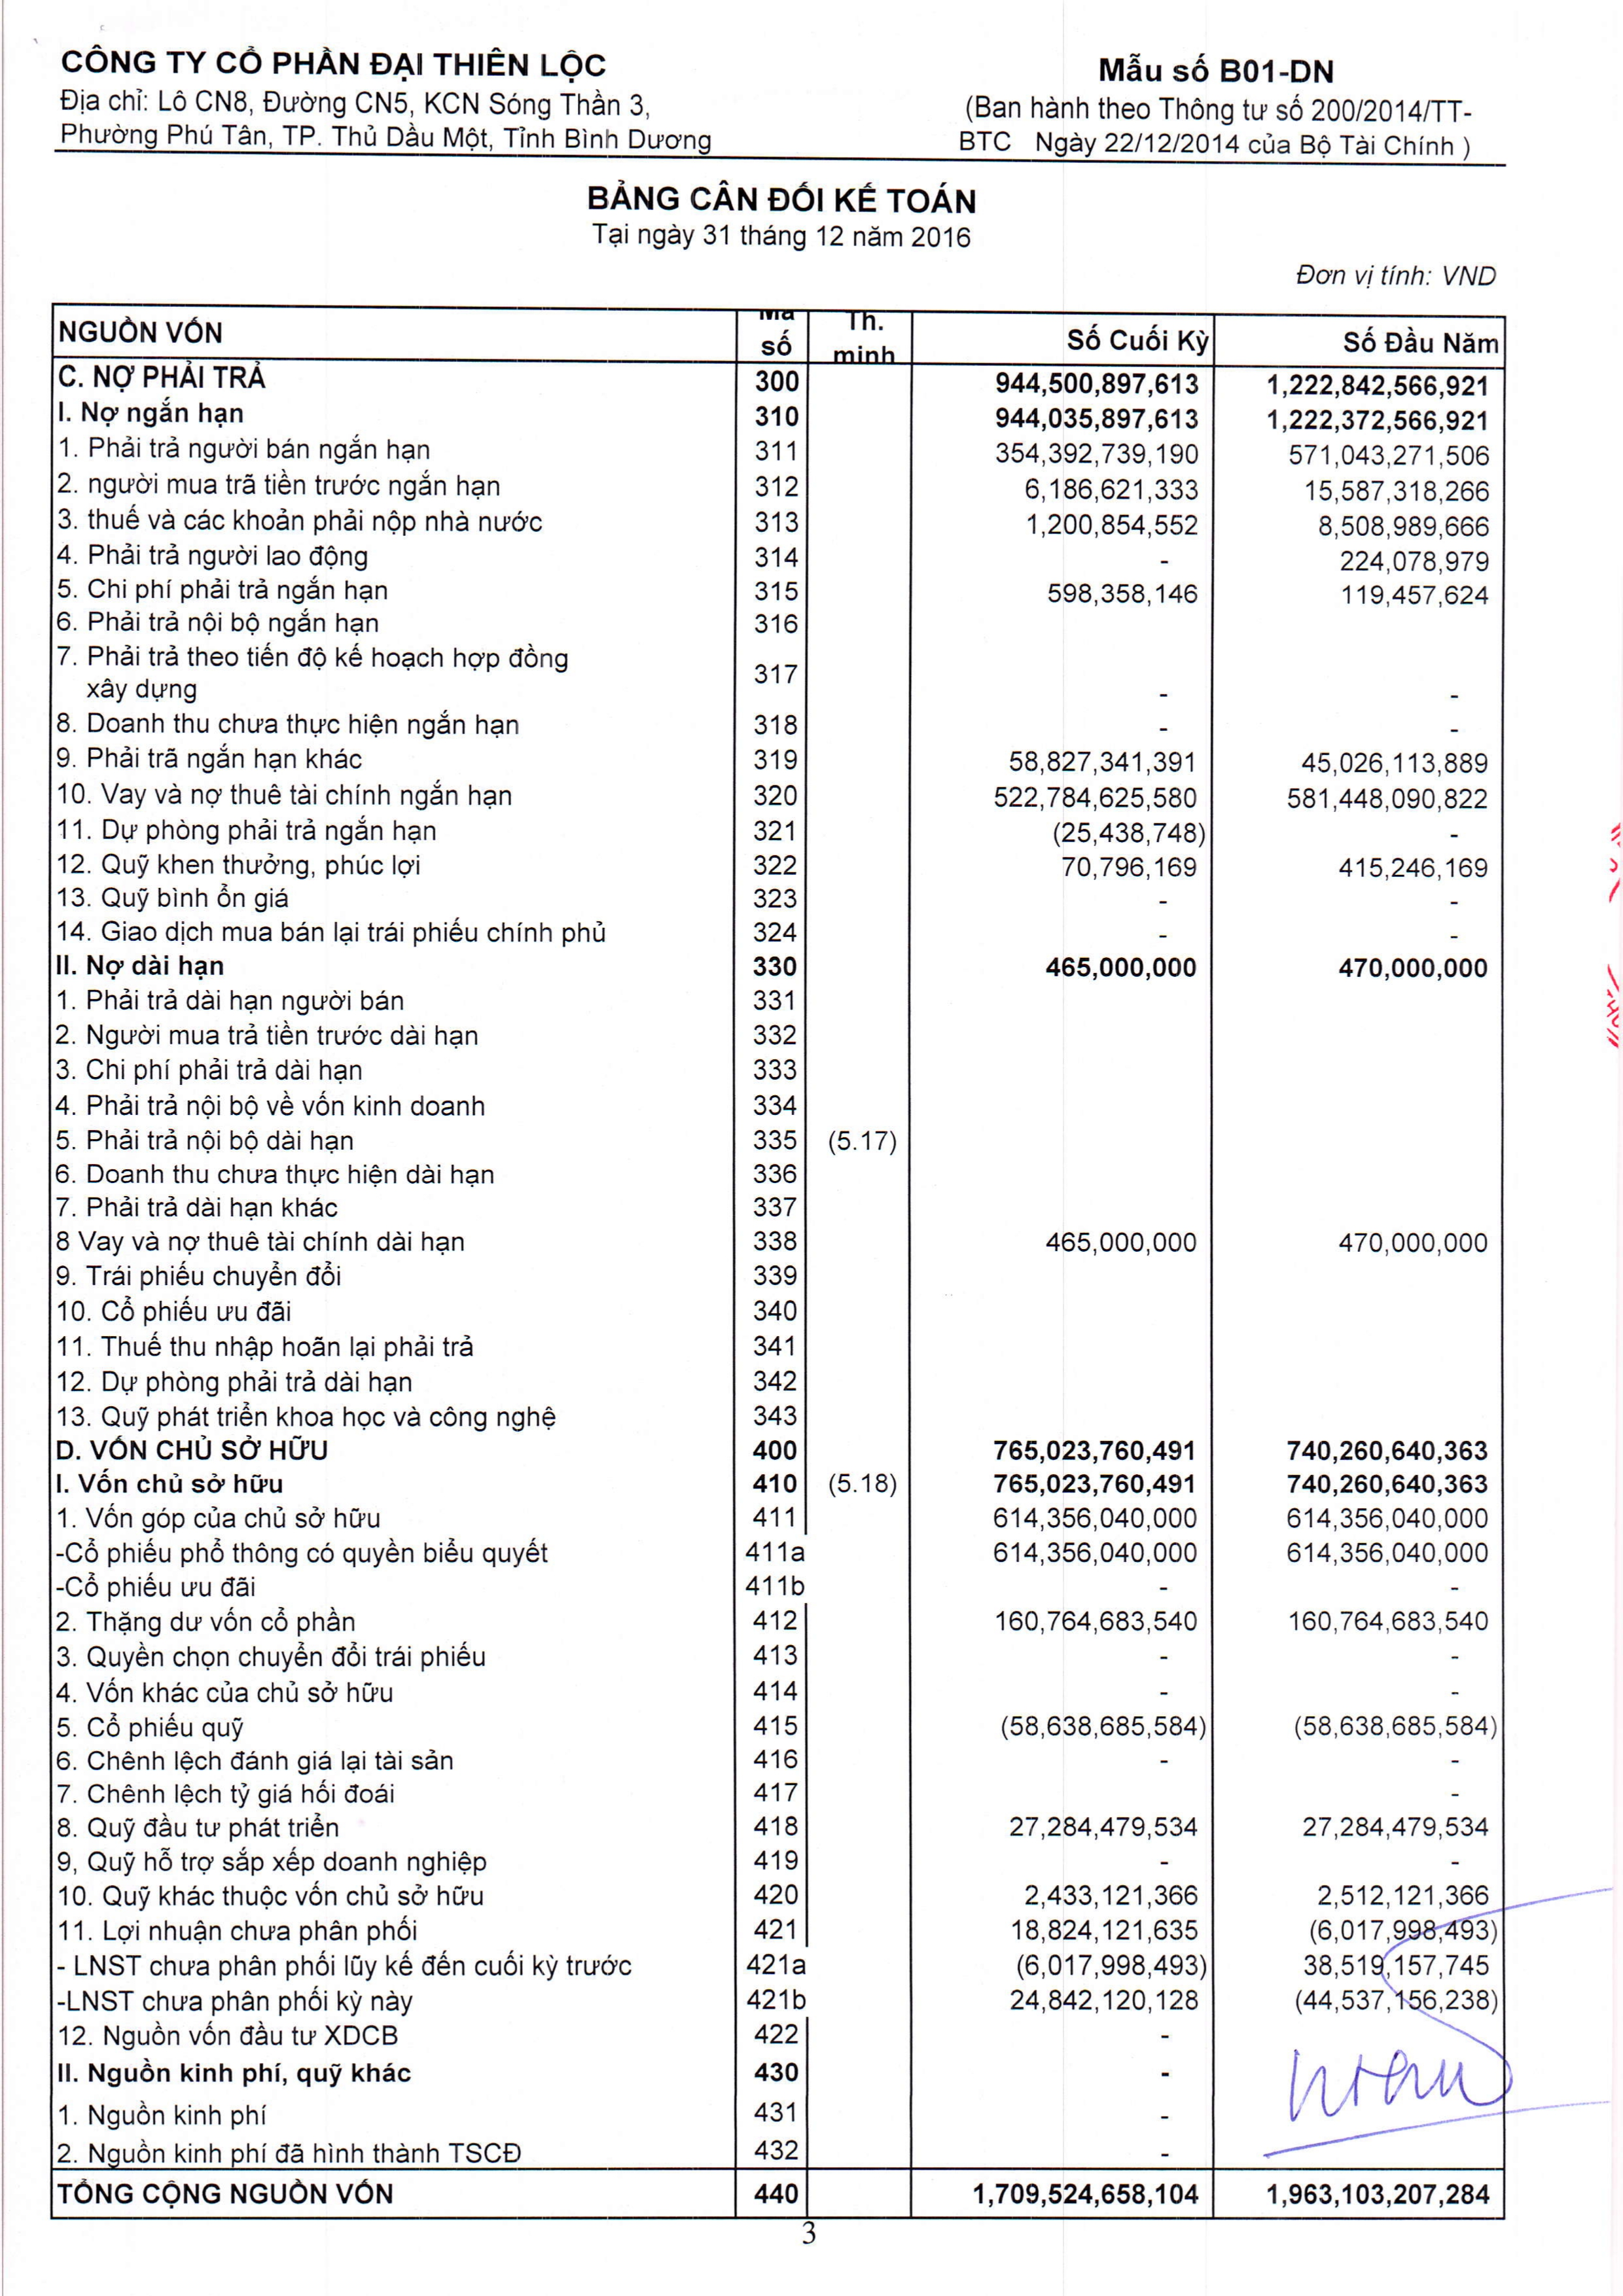table: (39, 295, 1518, 2224)
table column: (56, 295, 697, 2224), (957, 295, 1212, 2224), (1259, 295, 1497, 2224), (833, 295, 910, 2224), (755, 295, 826, 2224)
table column header: (40, 307, 1518, 376)
table row: (39, 318, 1518, 367), (39, 369, 1518, 404), (39, 437, 1518, 472), (39, 507, 1518, 542), (39, 542, 1518, 578), (39, 578, 1518, 613), (39, 922, 1518, 957), (39, 1064, 1518, 1099), (39, 1202, 1518, 1238), (39, 1620, 1518, 1655), (39, 1690, 1518, 1726), (39, 1831, 1518, 1866), (39, 2091, 1518, 2126), (39, 404, 1518, 437), (39, 474, 1518, 507), (39, 713, 1518, 746), (39, 748, 1518, 781), (39, 783, 1518, 816), (39, 818, 1518, 851), (39, 853, 1518, 886), (39, 994, 1518, 1027), (39, 1030, 1518, 1064), (39, 1309, 1518, 1343), (39, 1345, 1518, 1378), (39, 1446, 1518, 1480), (39, 1483, 1518, 1517), (39, 1553, 1518, 1587), (39, 1587, 1518, 1620), (39, 1936, 1518, 1970), (39, 1971, 1518, 2005), (39, 2048, 1518, 2082), (39, 2133, 1518, 2166), (39, 614, 1518, 646), (39, 679, 1518, 711), (39, 888, 1518, 920), (39, 960, 1518, 992), (39, 1132, 1518, 1164), (39, 1167, 1518, 1199), (39, 1239, 1518, 1271), (39, 1274, 1518, 1306), (39, 1380, 1518, 1411), (39, 1518, 1518, 1550), (39, 1657, 1518, 1689), (39, 1727, 1518, 1759), (39, 1762, 1518, 1794), (39, 1797, 1518, 1829), (39, 1868, 1518, 1899), (39, 1903, 1518, 1934), (39, 2008, 1518, 2040), (39, 2170, 1518, 2201), (39, 648, 1518, 678), (39, 1101, 1518, 1130), (39, 1415, 1518, 1445)
